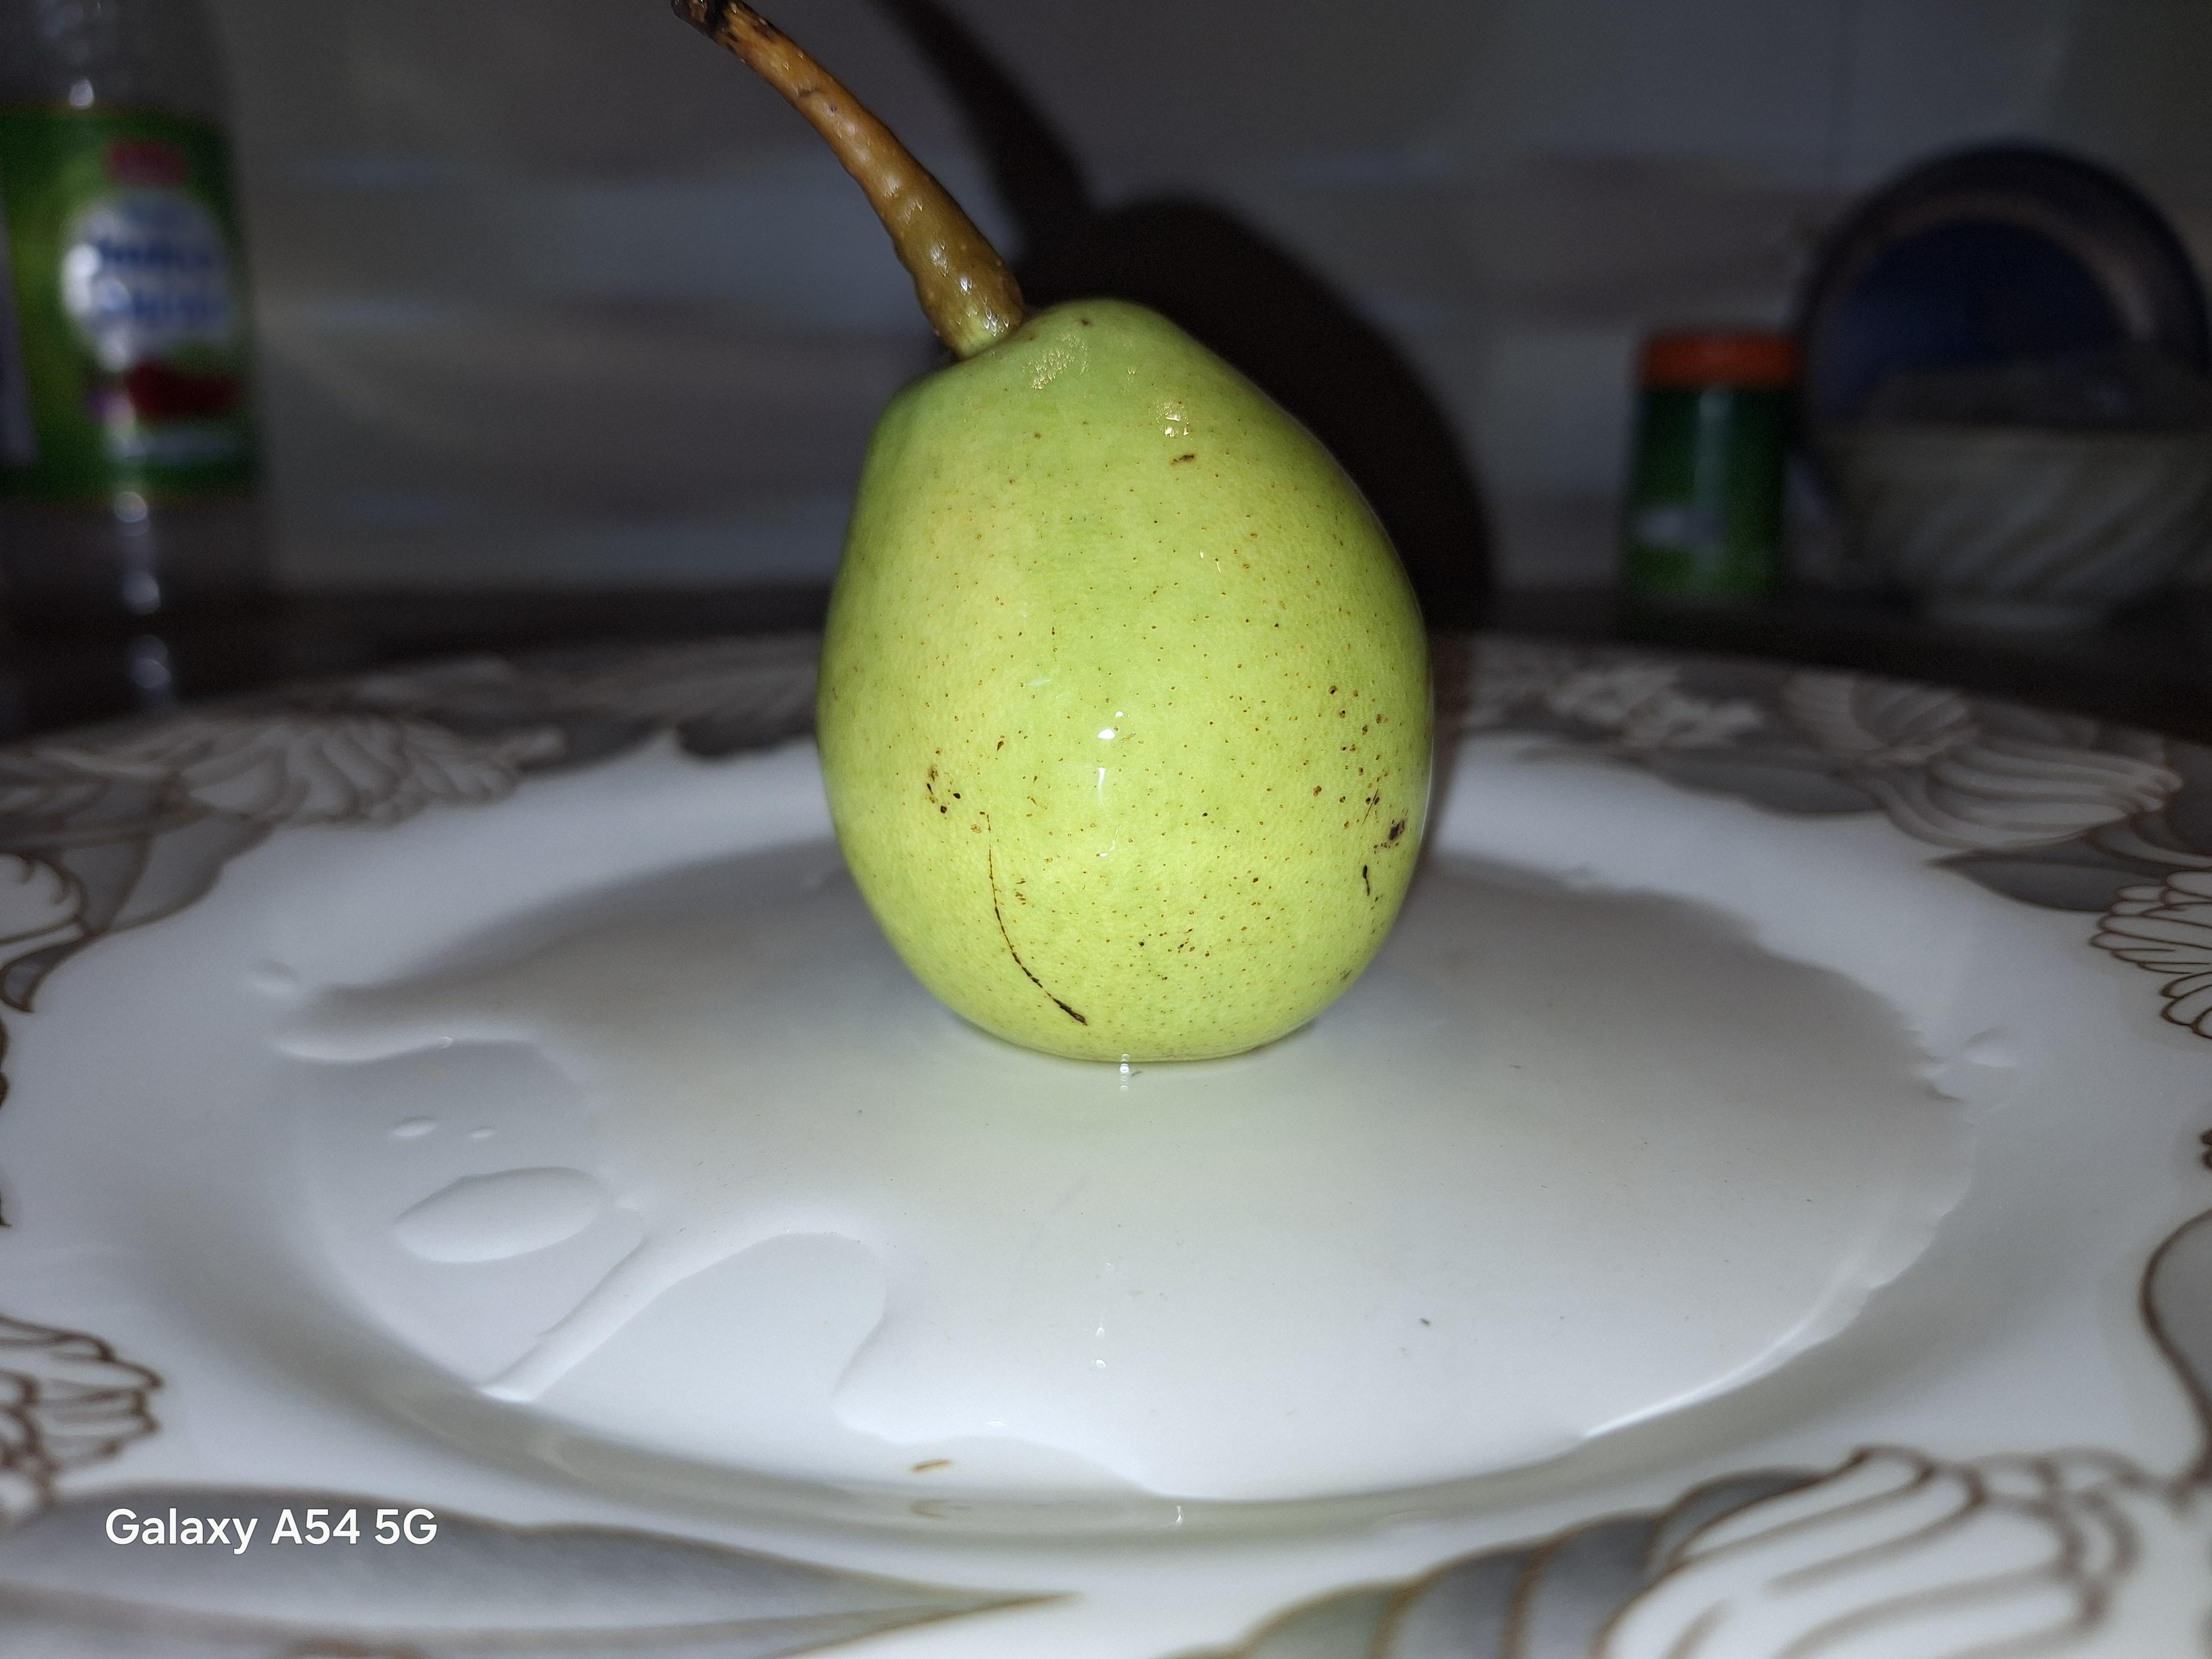non-mango: (824, 261, 1463, 1077)
